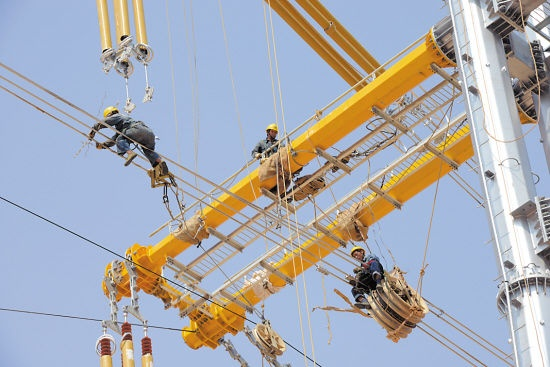yellow: (102, 105, 120, 121), (264, 123, 280, 140)
